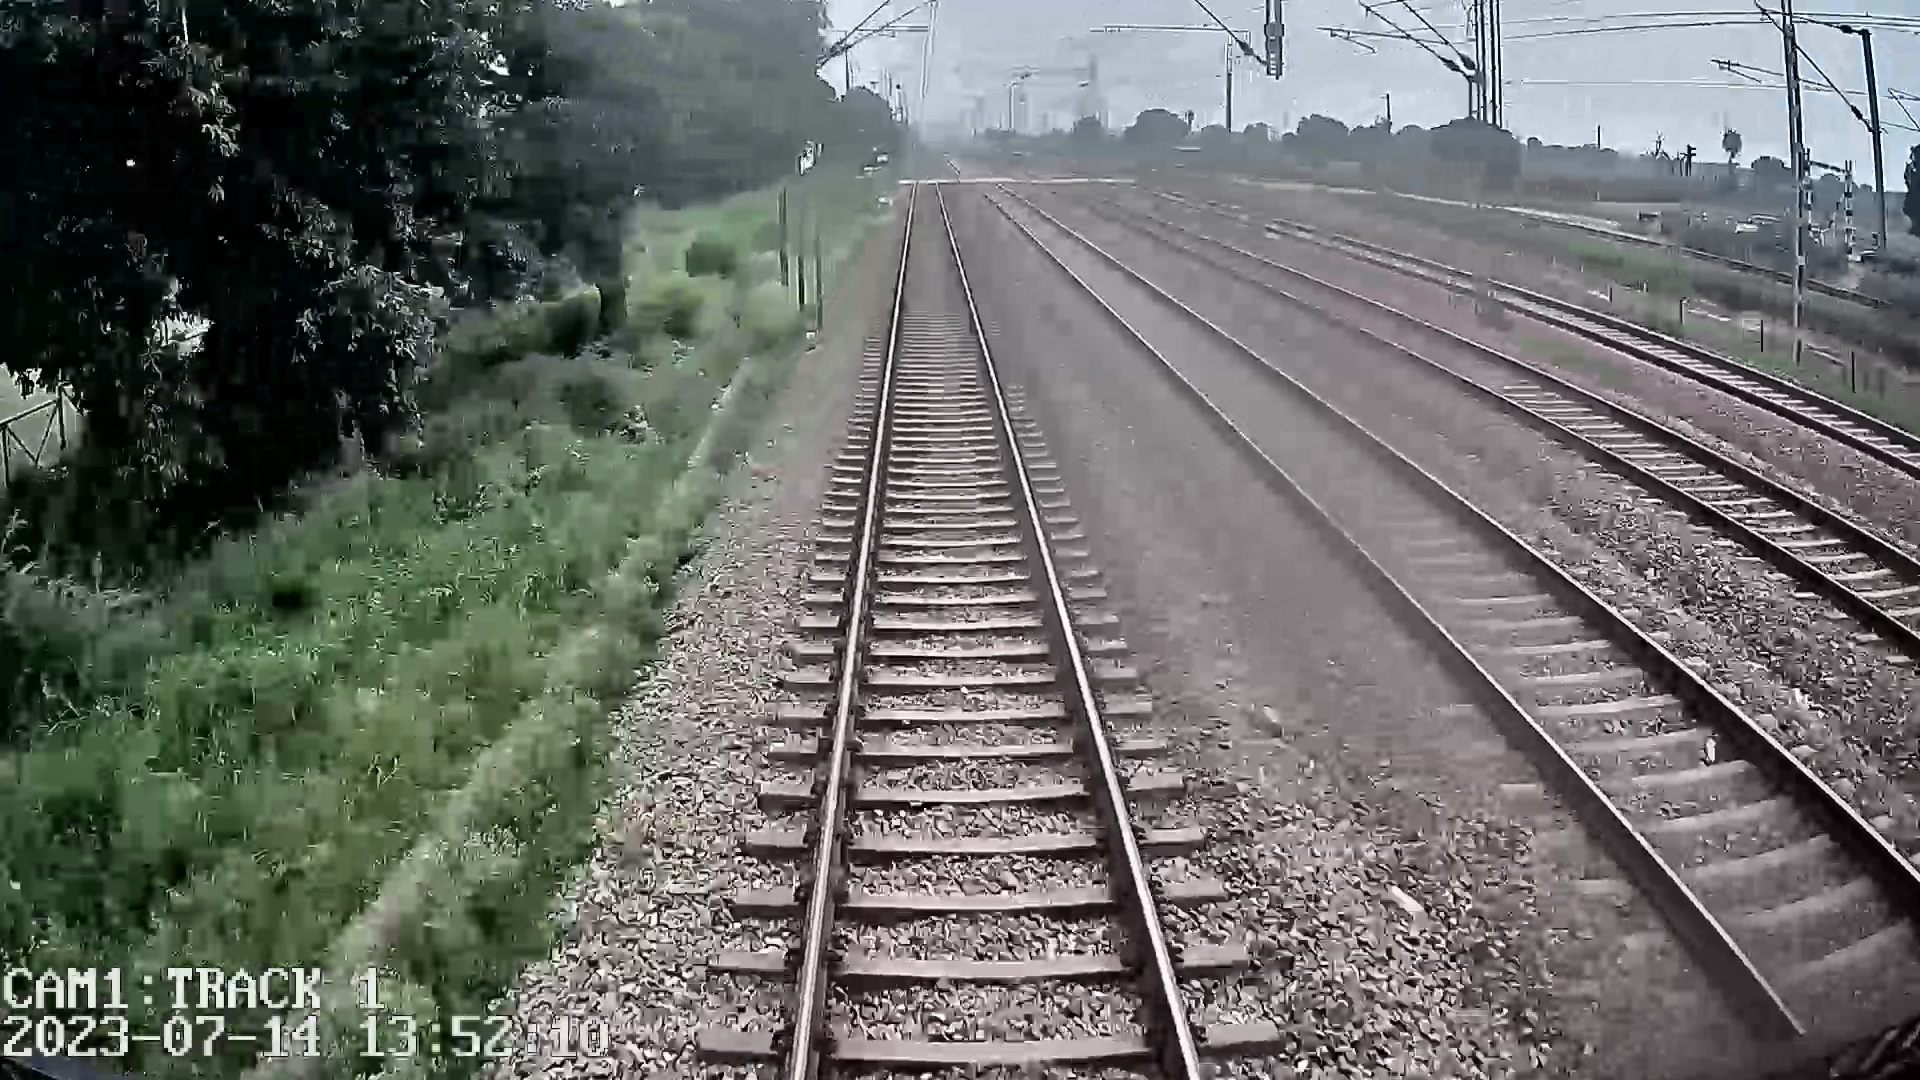track1: (799, 186, 1188, 1060)
track2: (981, 187, 1919, 985)
track3: (1151, 229, 1916, 621)
track4: (1346, 244, 1916, 463)
